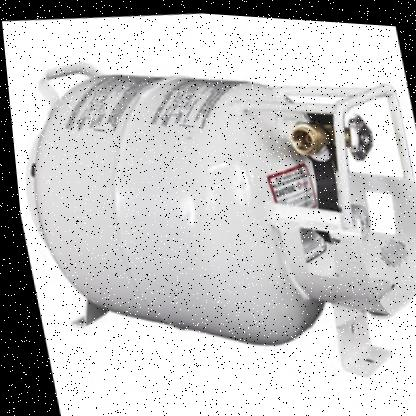gas-tank: (0, 9, 415, 410)
